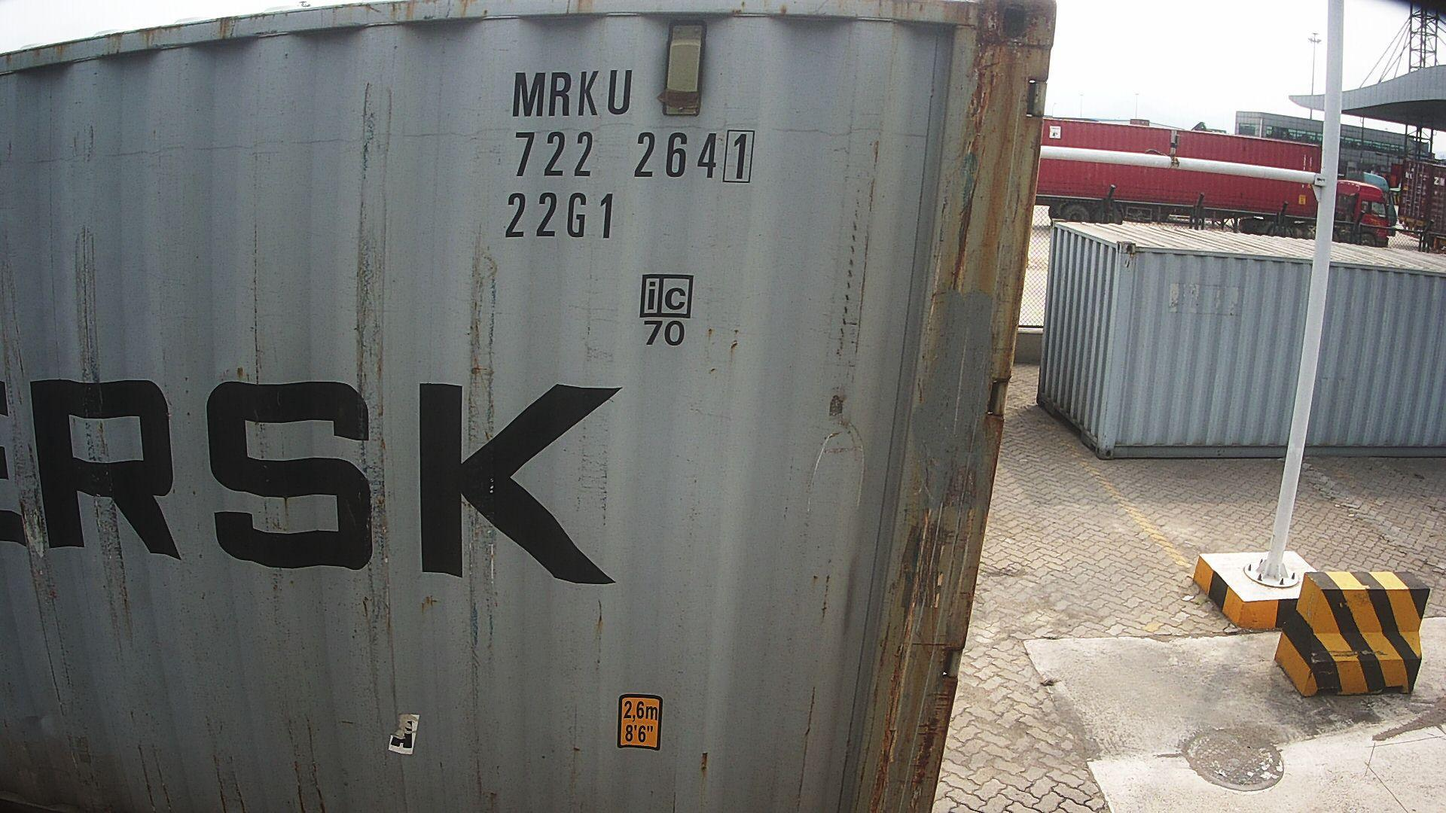container-numbers: (507, 126, 758, 189), (507, 65, 638, 122), (500, 188, 619, 242)
